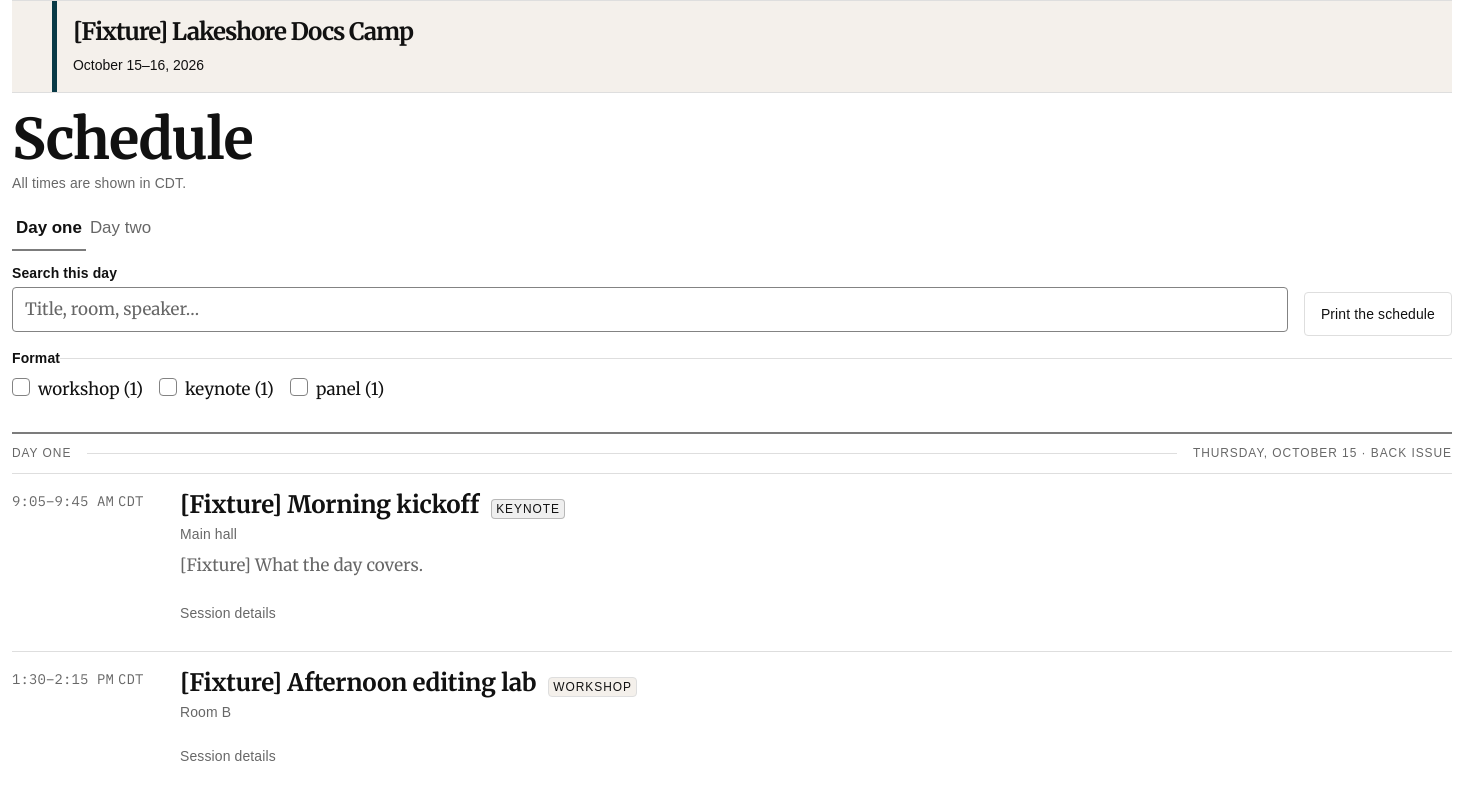
Test: SchedulePage › groups sessions by day and sorts the active day by start time
Check: the headings read "[Fixture] Morning kickoff", "[Fixture] Afternoon editing lab", in this order, box 180,490 -> 479,520; 180,668 -> 536,698
Check: the text "[Fixture] Day-two roundtable" is not shown
Note: Day switching is a real, keyboard-reachable button.
What coordinates should you click on to do the following:
click the button "Day two"
I would click on:
 (120, 228)
Its box is 86,206 -> 155,251.
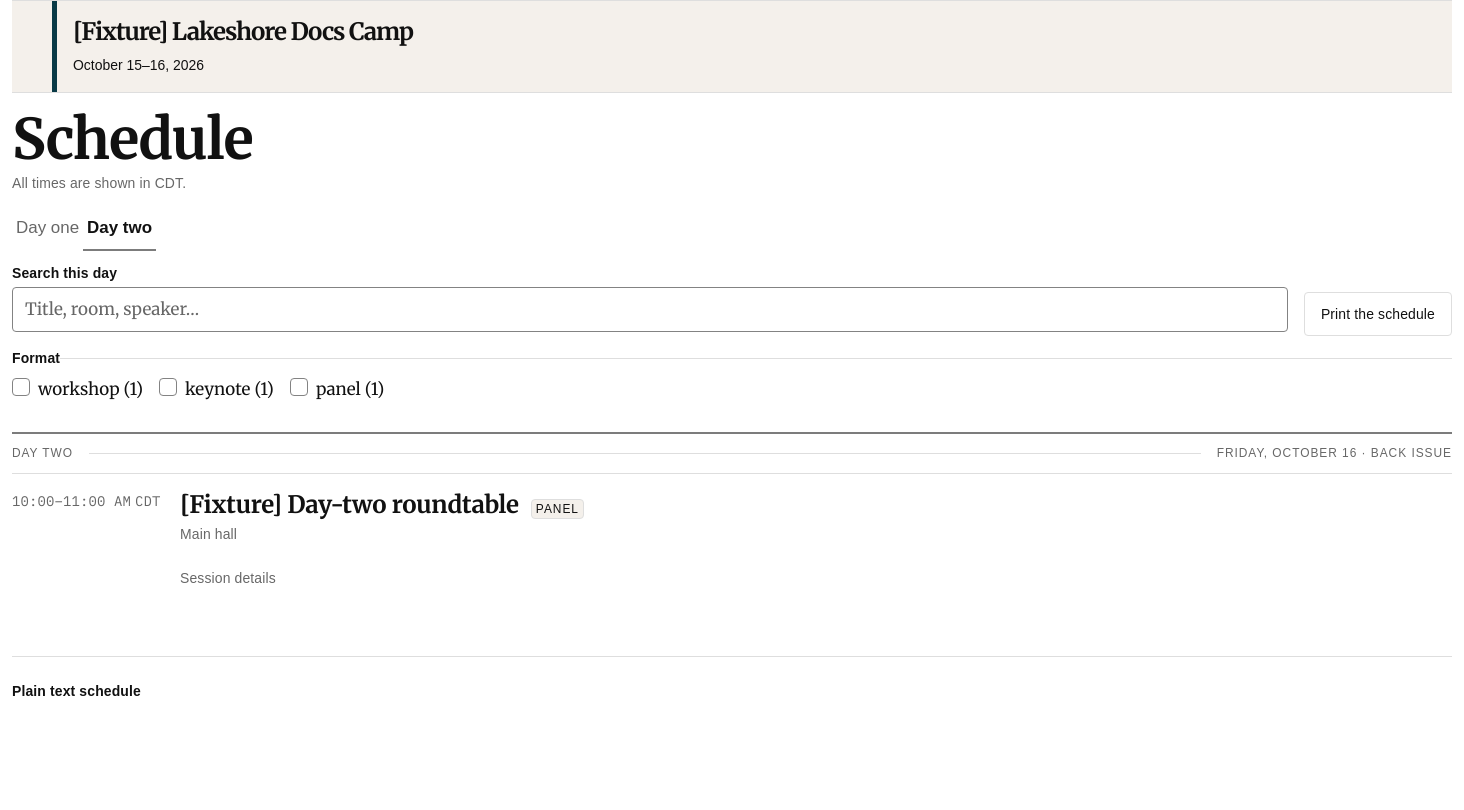
Check: the link "[Fixture] Day-two roundtable" is shown, box 180,489 -> 519,520
Check: the link "[Fixture] Morning kickoff" is gone
